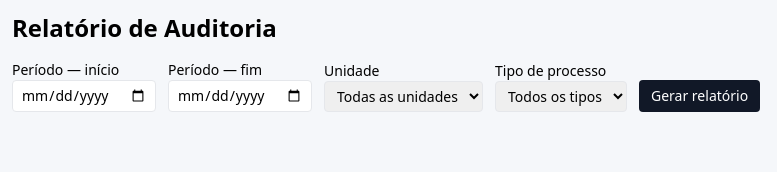
Test: RelatorioAuditoriaPage › exibe a mensagem de estado vazio quando os filtros não retornam dados (US 9.2 Cen.2)
Click the button "Gerar relatório" at (700, 96), box [639,80,760,112]
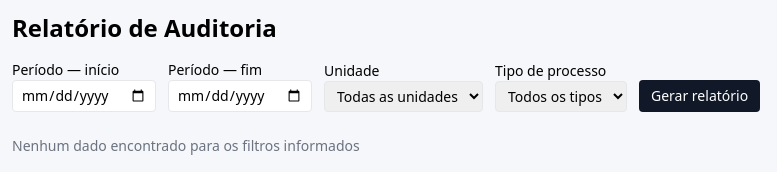
Expected: the text "Nenhum dado encontrado para os filtros informados" is shown, [12,136,360,155]
